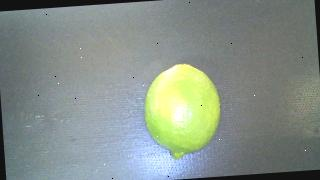EXPORTACION: (141, 62, 223, 161)
